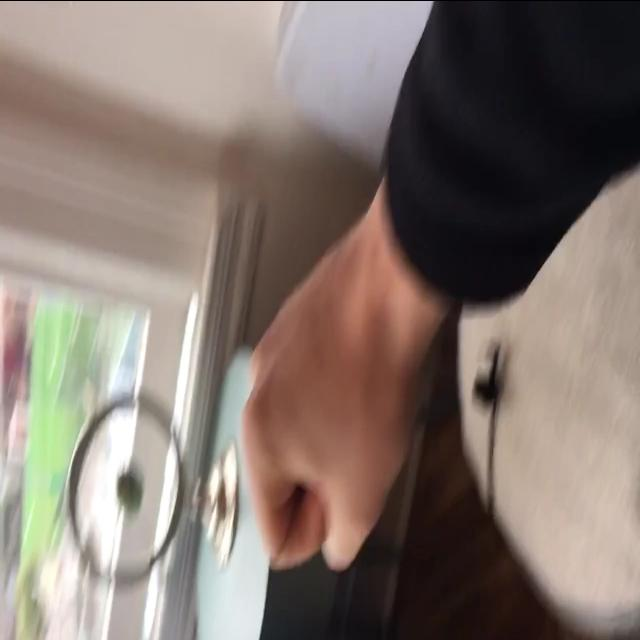Rock: (240, 236, 420, 580)
